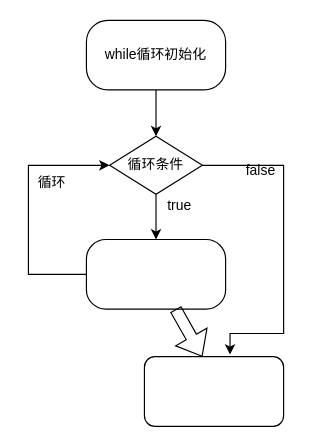
Some shapes in this 313 by 447 pixel diagram are drawn without their labels. Here are the shapes that lost their labels. From the top down, the centre of each, then its label:
At point (155, 273): "循环体 变量迭代 if(){...break...}".
At point (213, 391): "循环结束".
